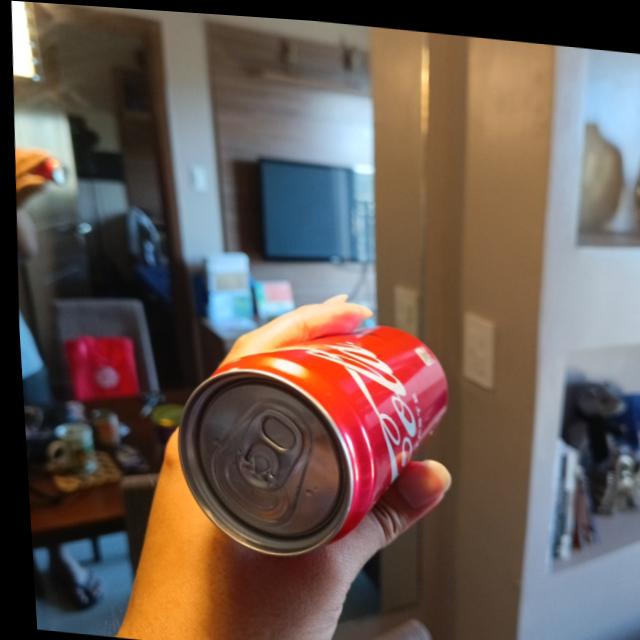coke: (160, 301, 455, 567)
